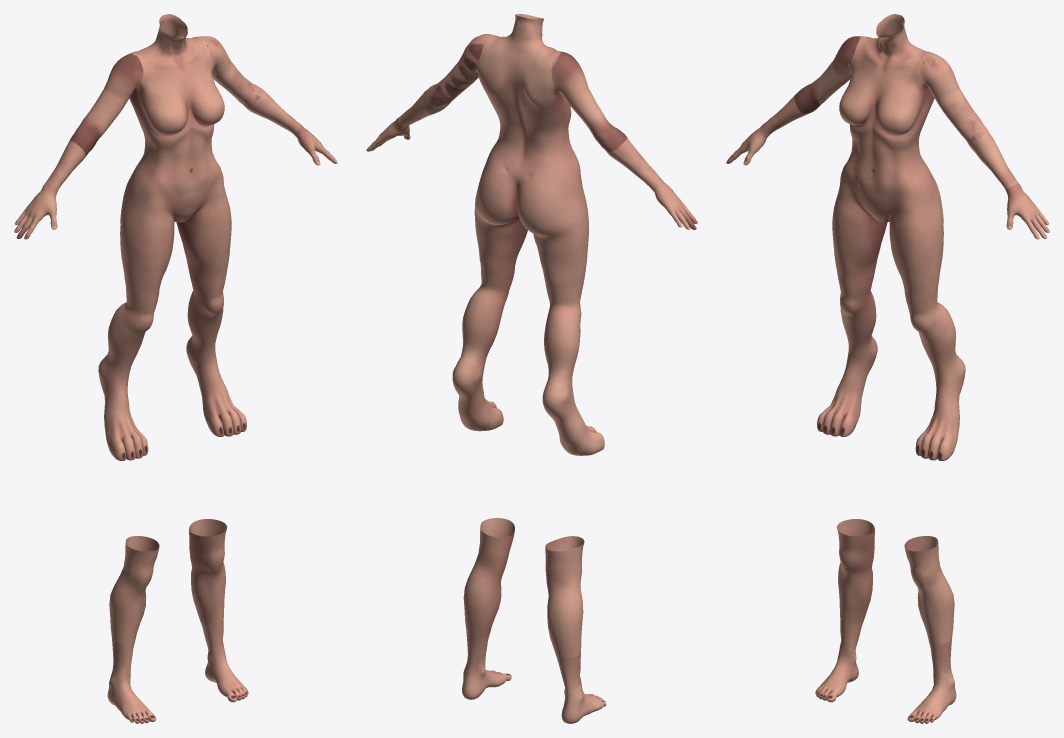
File: MyBody Substance Painter new.fbx
3 renders of one model, left to right at view 1: azimuth 30°, elevation 25°; view 2: azimuth 150°, elevation 25°; view 3: azimuth 330°, elevation 25°, orthographic. The views are drawn at different scales.
Visible parts, largest first — view 1: Body, PlantiLegs, NeckConnectorFurry; view 2: Body, PlantiLegs; view 3: Body, PlantiLegs, NeckConnectorFurry.
Part boxes in pixels (x1,y1,x2,y2): Body: (14, 26, 337, 460); PlantiLegs: (107, 519, 248, 723); NeckConnectorFurry: (158, 14, 187, 46); Body: (366, 28, 697, 455); PlantiLegs: (462, 518, 606, 723); Body: (726, 26, 1049, 460); PlantiLegs: (815, 519, 956, 723); NeckConnectorFurry: (876, 14, 905, 46).
Size of the model in its own units: 130 by 263 by 34.26.
2 materials, 2 textured.
